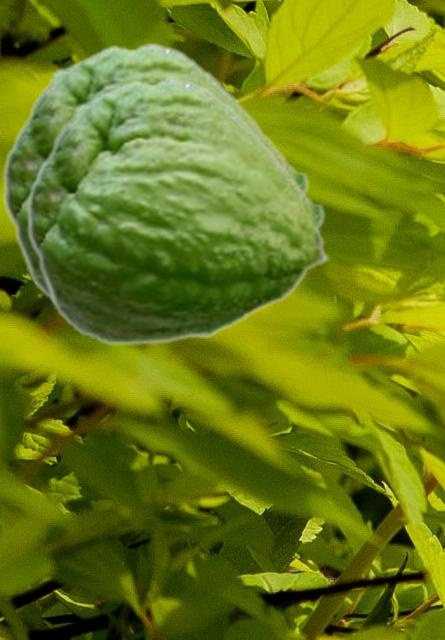sayote: (26, 76, 331, 346), (2, 41, 314, 303)
